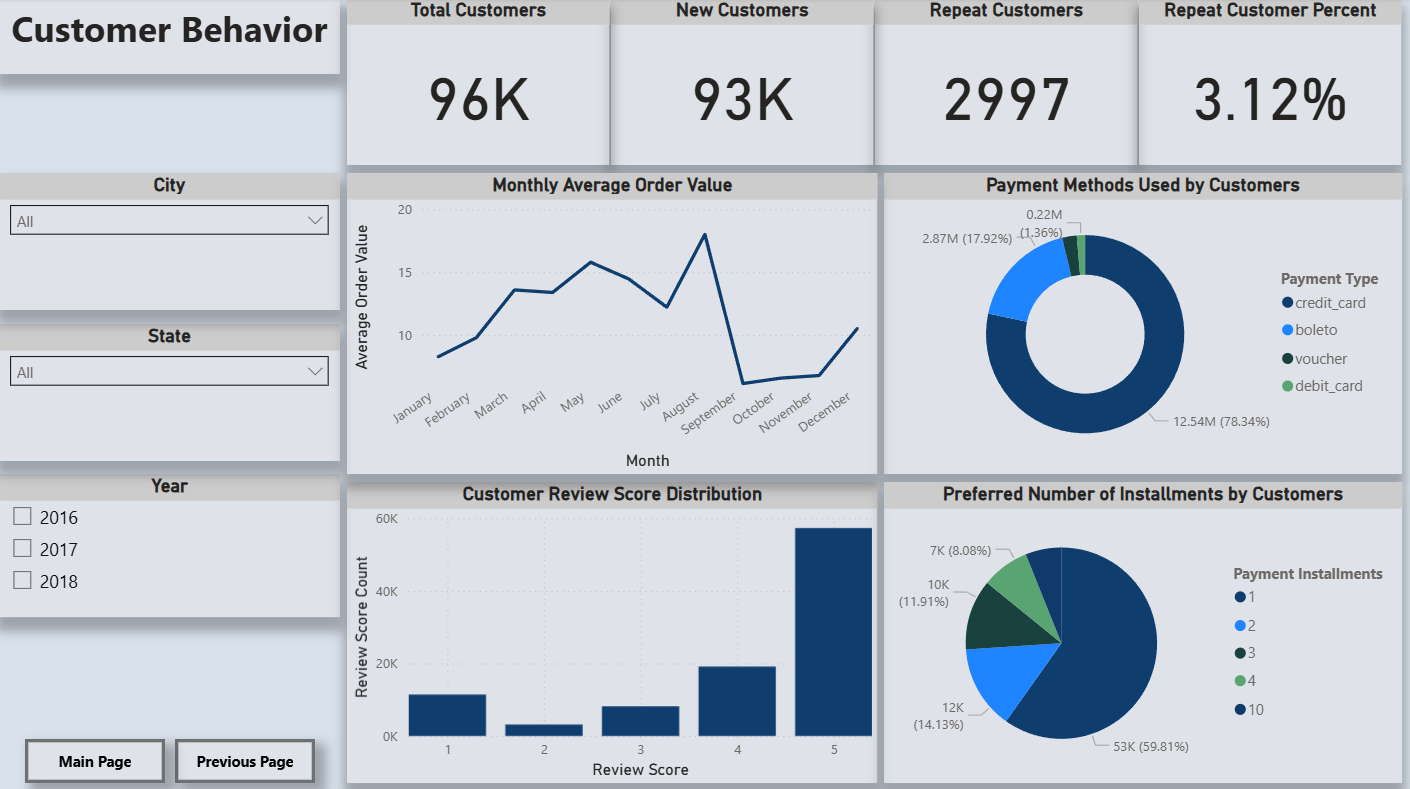

The page's visual inventory and layout, read from the dashboard file:
{"tool":"powerbi","page":{"name":"Customer Behavior","canvas":[1280,720],"ordinal":3},"visuals":[{"type":"textbox","box":[0,0,309.3,69.1],"z":0},{"type":"card","title":"Repeat Customers","fields":{"Values":["olist_orders_dataset.Repeat_Customers"]},"box":[794.7,0,238.3,150.8],"z":1000},{"type":"card","title":"New Customers","fields":{"Values":["olist_orders_dataset.New_Customers"]},"box":[555.4,0,238.3,150.8],"z":2000},{"type":"card","title":"Total Customers","fields":{"Values":["olist_orders_dataset.Total_Customers"]},"box":[315.1,0,238.3,150.8],"z":3000},{"type":"card","title":"Repeat Customer Percent","fields":{"Values":["olist_orders_dataset.Repeat_Customer_%"]},"box":[1033.9,0,238.3,150.8],"z":4000},{"type":"slicer","title":"Year","fields":{"Values":["DateTable.Year"]},"box":[0,431.9,309.3,130.3],"z":5000},{"type":"slicer","title":"State","fields":{"Values":["olist_customers_dataset.customer_state"]},"box":[0,295.7,309.3,123.5],"z":6000},{"type":"slicer","title":"City","fields":{"Values":["olist_customers_dataset.customer_city"]},"box":[0,158.5,309.3,123.5],"z":7000},{"type":"donutChart","title":"Payment Methods Used by Customers","fields":{"Category":["olist_order_payments_dataset.payment_type"],"Y":["olist_order_payments_dataset.Total_Payments_Received"]},"box":[802.4,158.5,469.8,273.3],"z":8000},{"type":"columnChart","title":"Customer Review Score Distribution","fields":{"Category":["olist_order_reviews_dataset.review_score"],"Y":["olist_order_reviews_dataset.Review_Score_Count"]},"box":[315.1,438.7,481.5,273.3],"z":9000},{"type":"lineChart","title":"Monthly Average Order Value","fields":{"Y":["olist_order_items_dataset.Average_Order_Value"],"Category":["DateTable.Month"]},"box":[315.1,158.5,481.5,273.3],"z":10000},{"type":"pieChart","title":"Preferred Number of Installments by Customers","fields":{"Category":["olist_order_payments_dataset.payment_installments"],"Y":["olist_order_payments_dataset.Payment_Installments_Count"]},"box":[802.4,438.7,469.8,273.3],"z":11000},{"type":"actionButton","box":[23.6,671.9,127,39.9],"z":12000},{"type":"actionButton","box":[159.6,671.9,127,39.9],"z":13000}]}

Visuals, with their boxes in screenshot pixels (x1, y1, x2, y2), scaled from the page's 1280x720 canvas onto the 1410x789 screenshot:
textbox: x1=0 y1=0 x2=341 y2=76
"Repeat Customers" card: x1=875 y1=0 x2=1138 y2=165
"New Customers" card: x1=612 y1=0 x2=874 y2=165
"Total Customers" card: x1=347 y1=0 x2=610 y2=165
"Repeat Customer Percent" card: x1=1139 y1=0 x2=1401 y2=165
"Year" slicer: x1=0 y1=473 x2=341 y2=616
"State" slicer: x1=0 y1=324 x2=341 y2=459
"City" slicer: x1=0 y1=174 x2=341 y2=309
"Payment Methods Used by Customers" donutChart: x1=884 y1=174 x2=1401 y2=473
"Customer Review Score Distribution" columnChart: x1=347 y1=481 x2=878 y2=780
"Monthly Average Order Value" lineChart: x1=347 y1=174 x2=878 y2=473
"Preferred Number of Installments by Customers" pieChart: x1=884 y1=481 x2=1401 y2=780
actionButton: x1=26 y1=736 x2=166 y2=780
actionButton: x1=176 y1=736 x2=316 y2=780
